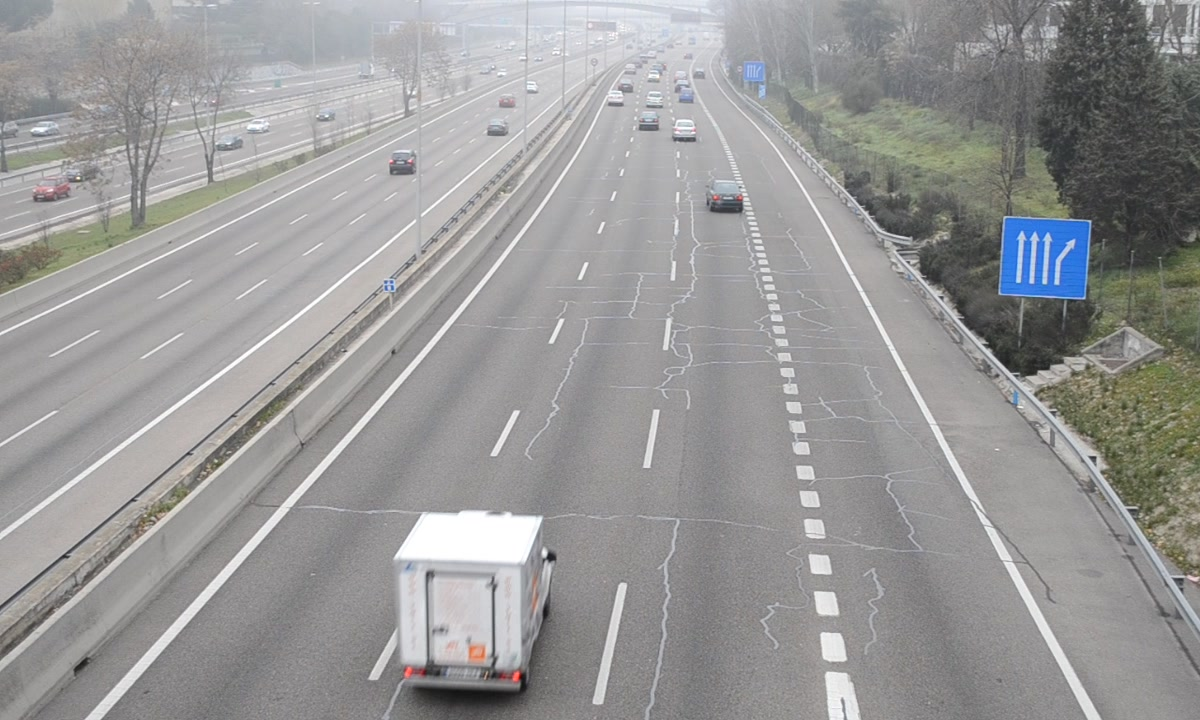car: (705, 177, 744, 213)
small-truck: (395, 512, 554, 692)
